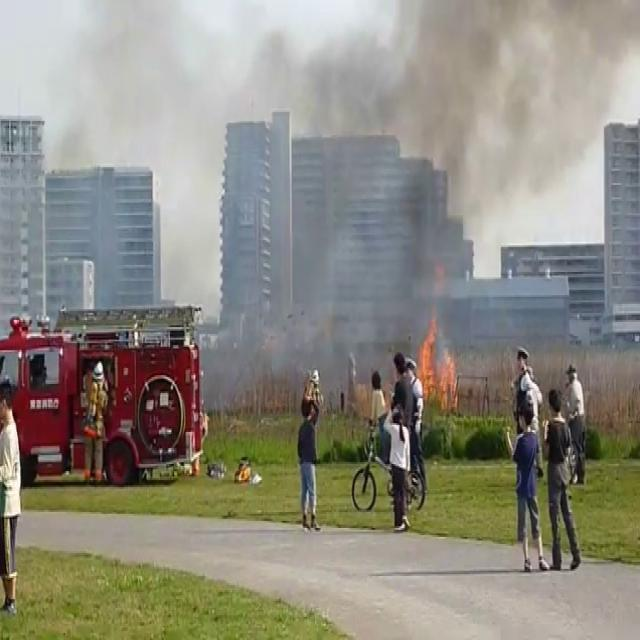Fire: (413, 306, 459, 404)
Smoke: (330, 0, 640, 338)
